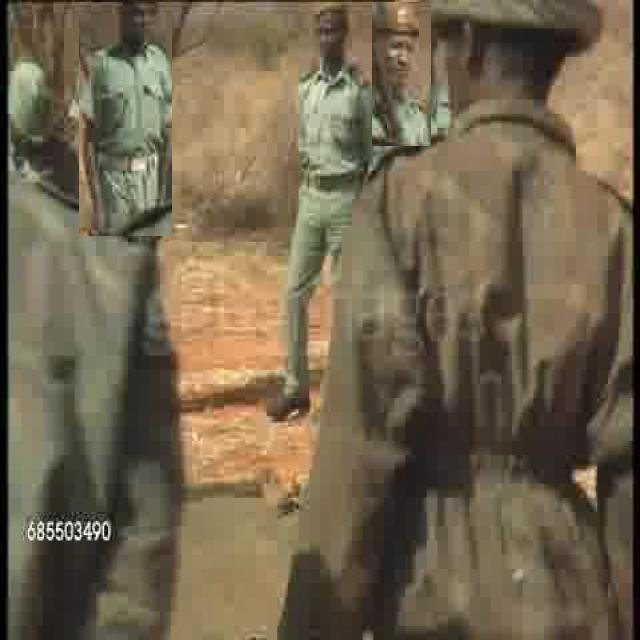poacher: (318, 2, 640, 594), (258, 1, 369, 428), (79, 2, 172, 236), (372, 2, 431, 146)
